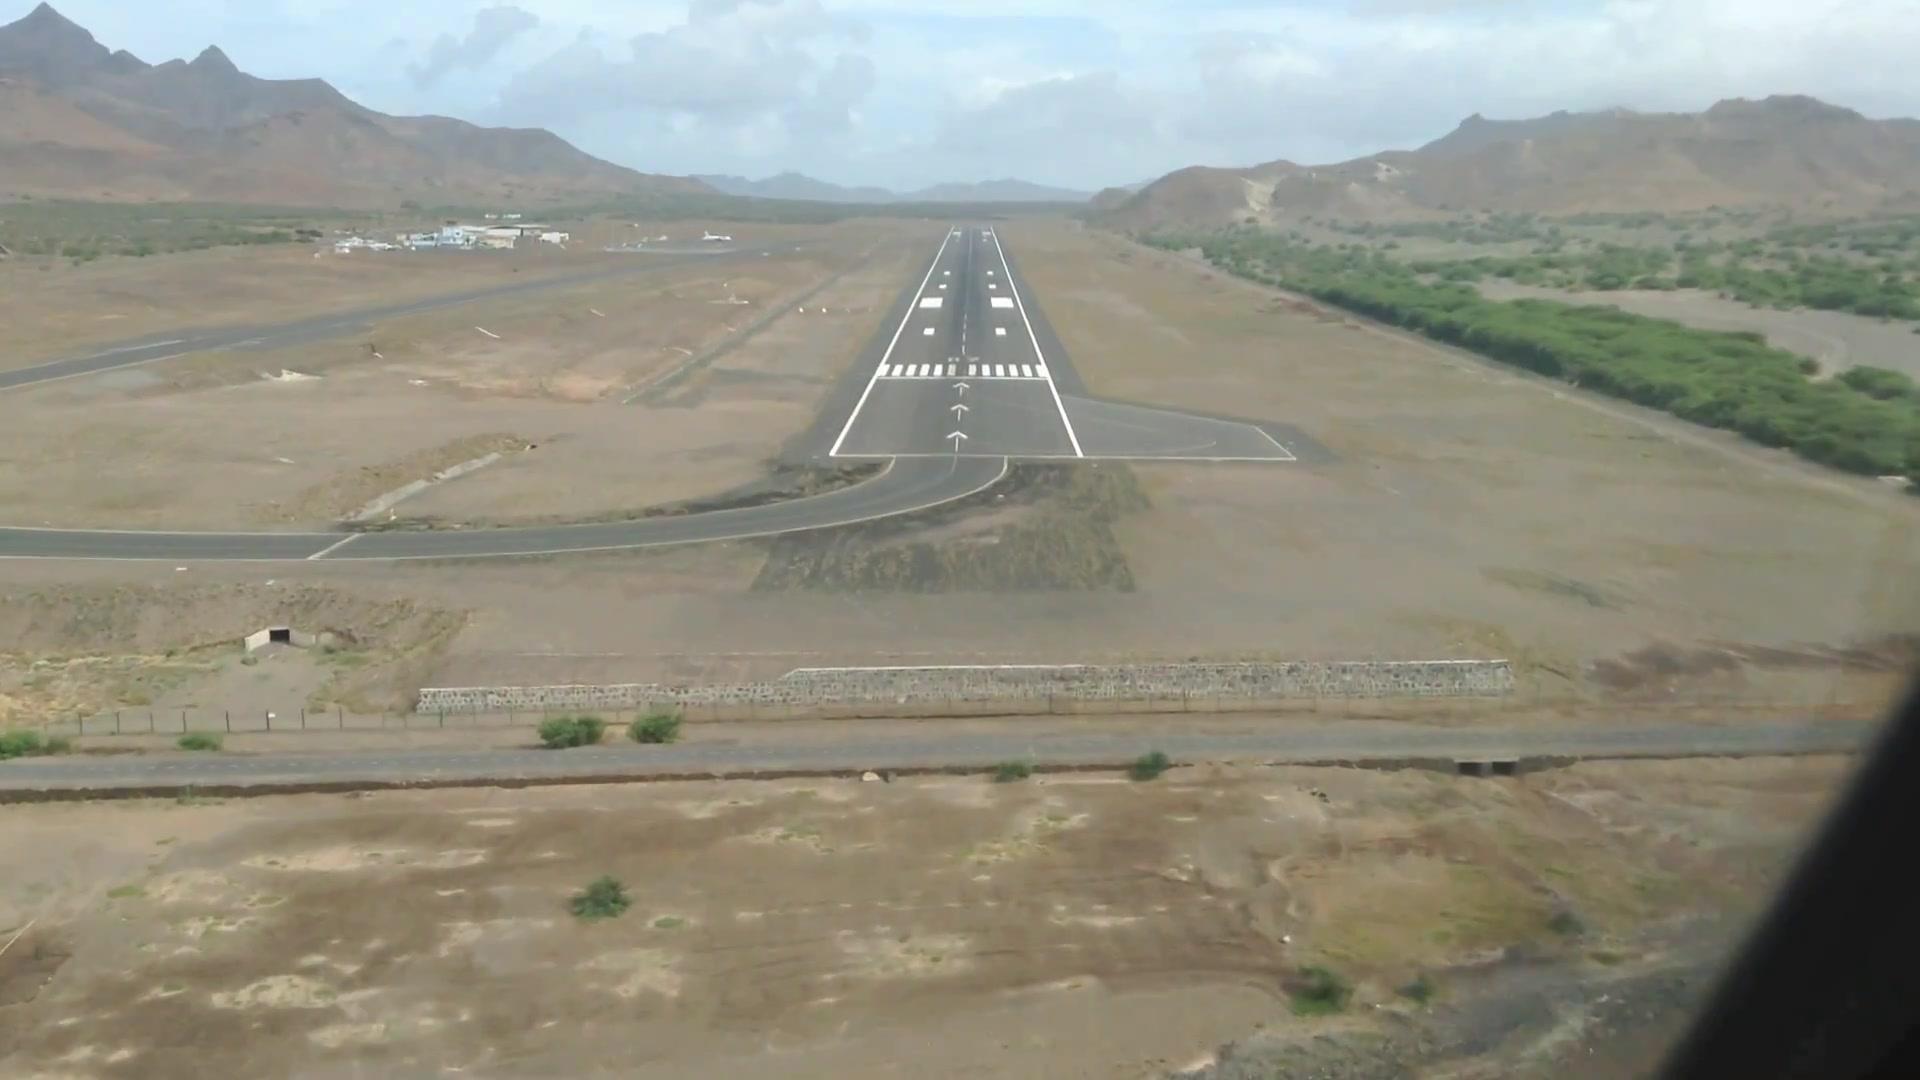entrance: (869, 359, 1048, 378)
runway: (829, 219, 1083, 458)
